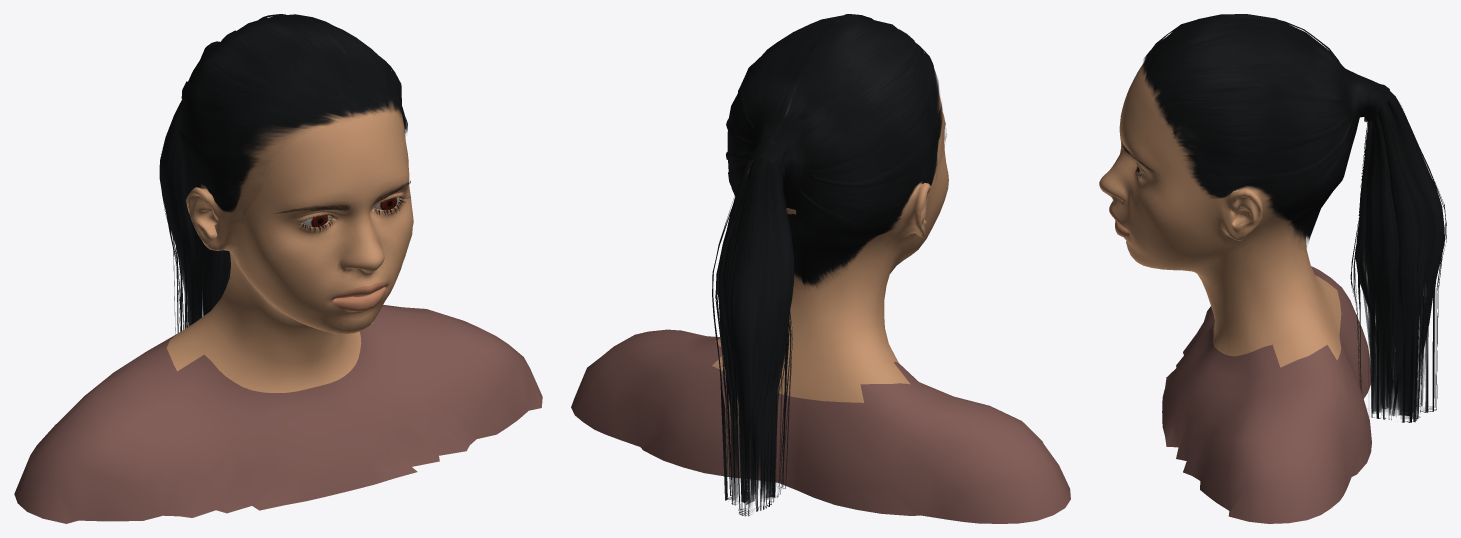
Rendered from woman-03.glb.
3 views of the same model, side by side, from view 1: azimuth 30°, elevation 25°; view 2: azimuth 150°, elevation 25°; view 3: azimuth 270°, elevation 25° (orthographic). The views are drawn at different scales.
Parts seen in each view (by area): view 1: mpfb-face, mpfb-face.ponytail01; view 2: mpfb-face, mpfb-face.ponytail01; view 3: mpfb-face, mpfb-face.ponytail01.
Part boxes in pixels (x1,y1,x2,y2): mpfb-face: (14, 101, 542, 523); mpfb-face.ponytail01: (159, 14, 407, 334); mpfb-face: (571, 80, 1070, 523); mpfb-face.ponytail01: (712, 14, 942, 516); mpfb-face: (1099, 63, 1371, 523); mpfb-face.ponytail01: (1142, 14, 1446, 422).
Bounding box in the file's own units: 0.4115 × 0.3371 × 0.2705.
9 materials, 6 textured.
